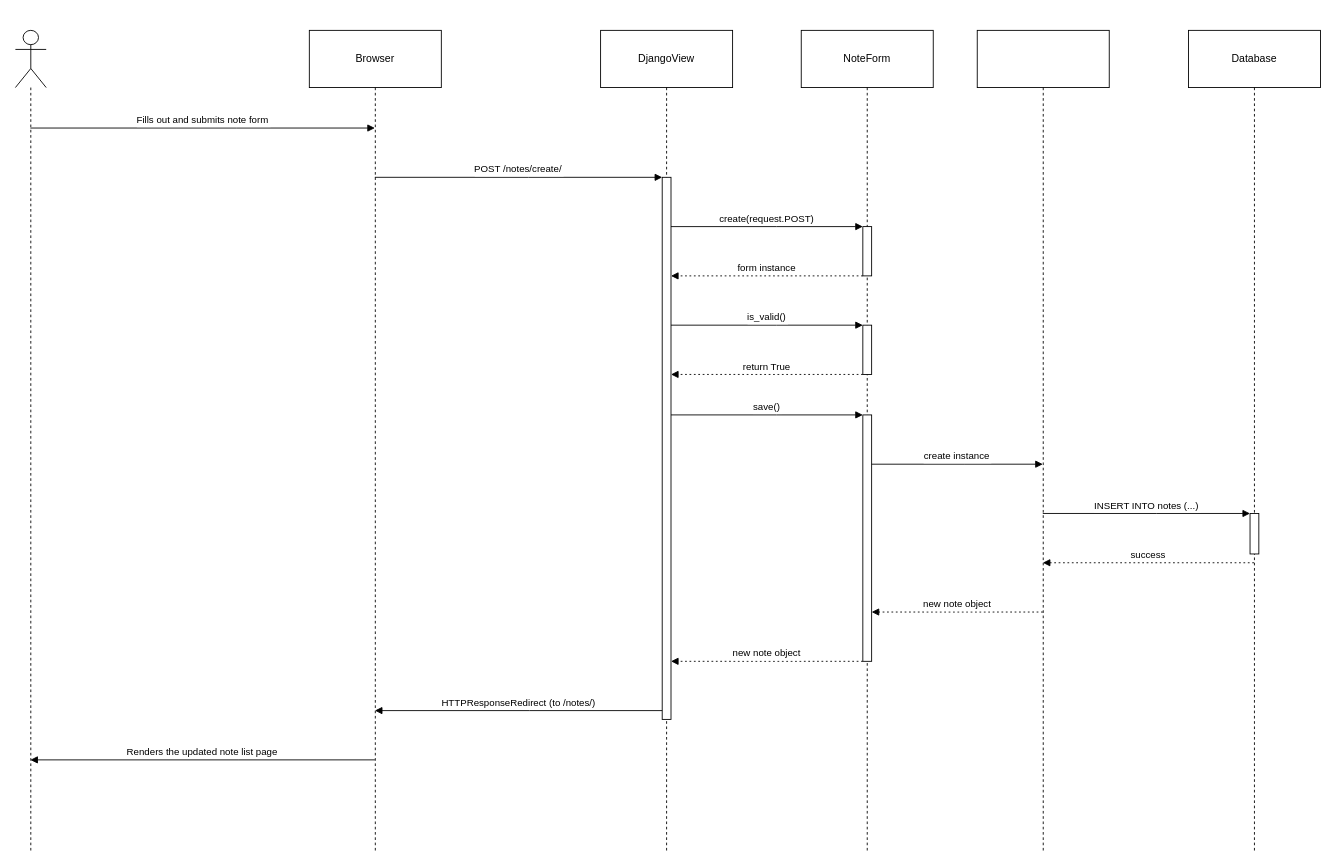
Image size: 1336x868. Some labels were removed from this diagram. Here are the shapes that lost their labels. From the top down, the box of each, then its label:
(15, 29, 46, 852): User
(976, 29, 1109, 852): NoteModel
